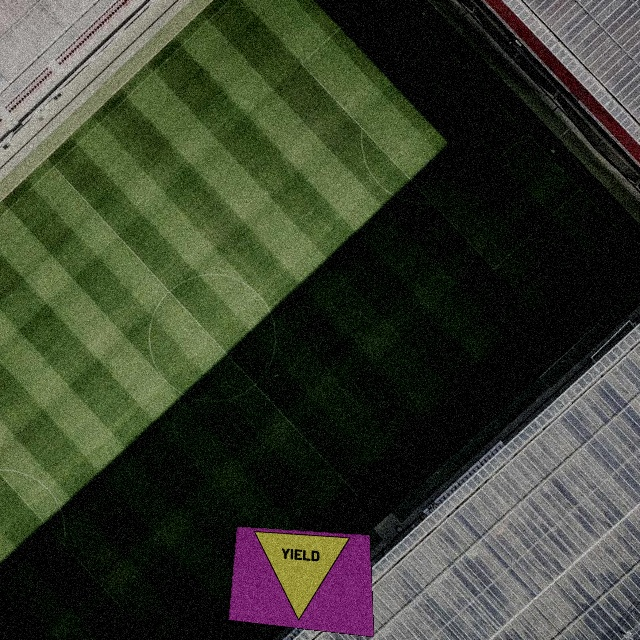YIELD: (248, 531, 357, 627)
